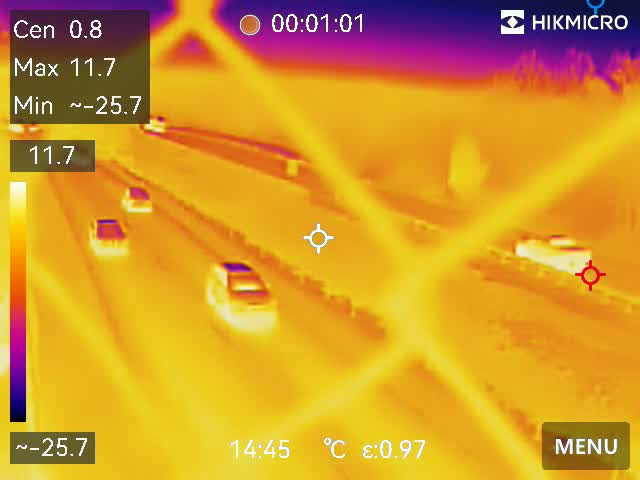largeCar: (206, 252, 272, 321)
lightTruck: (512, 229, 593, 270)
smallCar: (89, 212, 123, 255), (123, 185, 153, 216)
vehicle: (135, 110, 170, 137)
